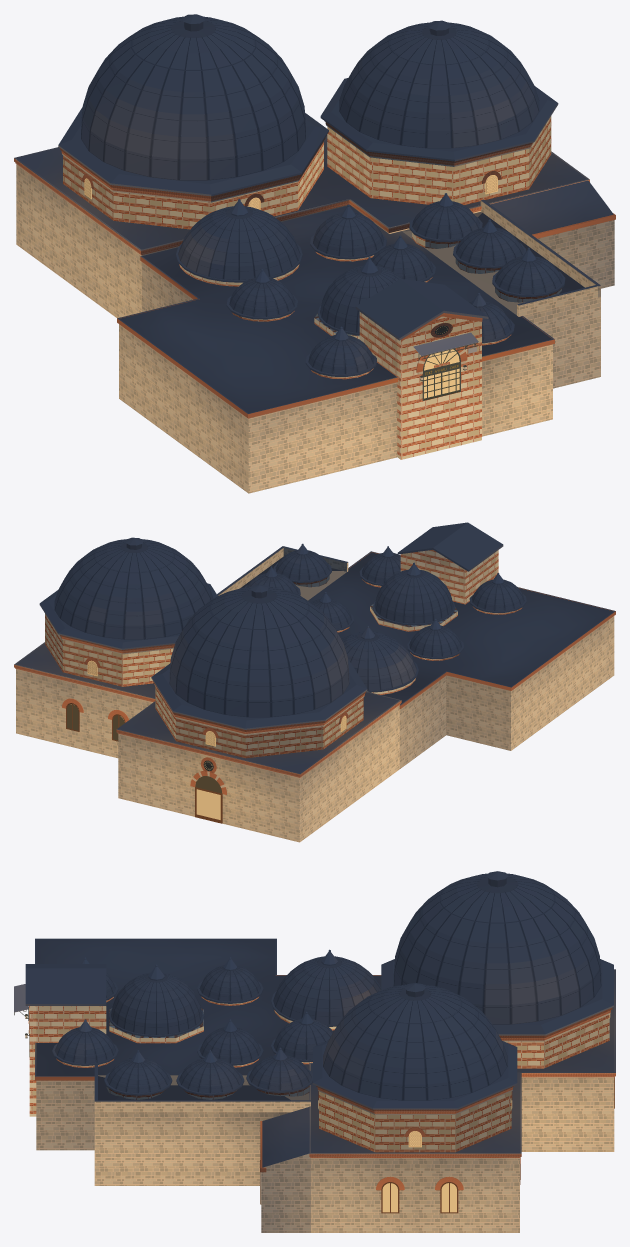
The model's file is orhan-bey-hamami_v05_night.glb.
3 views of the same model, one above another, from view 1: azimuth 30°, elevation 25°; view 2: azimuth 150°, elevation 25°; view 3: azimuth 270°, elevation 25° (orthographic). The views are drawn at different scales.
Parts seen in each view (by area): view 1: Hamam_Sicaklik, Kubbe_Sogukluk_Erkek, Kubbe_Sogukluk_Kadin, Kubbe_Halvetler, Hamam_Giris, Hamam_Sogukluk_Erkek, Hamam_Detay, Kubbe_Iliklik, Hamam_Giris_Kadin, Kubbe_Sicaklik, Hamam_Sogukluk_Kadin; view 2: Kubbe_Sogukluk_Erkek, Hamam_Sicaklik, Hamam_Sogukluk_Erkek, Kubbe_Sogukluk_Kadin, Kubbe_Halvetler, Hamam_Detay, Hamam_Sogukluk_Kadin, Hamam_Giris, Kubbe_Sicaklik, Kubbe_Iliklik; view 3: Hamam_Sicaklik, Kubbe_Sogukluk_Erkek, Kubbe_Sogukluk_Kadin, Kubbe_Halvetler, Hamam_Sogukluk_Kadin, Hamam_Sogukluk_Erkek, Hamam_Detay, Hamam_Giris, Hamam_Giris_Kadin, Kubbe_Sicaklik, Kubbe_Iliklik.
Boxes of the visible parts, x1=… form: Hamam_Sicaklik: x1=119, y1=205, x2=600, y2=493; Kubbe_Sogukluk_Erkek: x1=58, y1=16, x2=328, y2=229; Kubbe_Sogukluk_Kadin: x1=320, y1=22, x2=558, y2=204; Kubbe_Halvetler: x1=226, y1=199, x2=600, y2=379; Hamam_Giris: x1=355, y1=278, x2=488, y2=459; Hamam_Sogukluk_Erkek: x1=16, y1=147, x2=365, y2=318; Hamam_Detay: x1=14, y1=14, x2=589, y2=418; Kubbe_Iliklik: x1=176, y1=206, x2=302, y2=286; Hamam_Giris_Kadin: x1=490, y1=180, x2=615, y2=288; Kubbe_Sicaklik: x1=314, y1=266, x2=402, y2=339; Hamam_Sogukluk_Kadin: x1=324, y1=134, x2=586, y2=233; Kubbe_Sogukluk_Erkek: x1=151, y1=586, x2=367, y2=758; Hamam_Sicaklik: x1=308, y1=552, x2=614, y2=768; Hamam_Sogukluk_Erkek: x1=118, y1=692, x2=399, y2=842; Kubbe_Sogukluk_Kadin: x1=39, y1=539, x2=217, y2=686; Kubbe_Halvetler: x1=217, y1=546, x2=526, y2=660; Hamam_Detay: x1=14, y1=537, x2=615, y2=823; Hamam_Sogukluk_Kadin: x1=16, y1=643, x2=155, y2=758; Hamam_Giris: x1=397, y1=522, x2=503, y2=604; Kubbe_Sicaklik: x1=370, y1=569, x2=457, y2=631; Kubbe_Iliklik: x1=341, y1=631, x2=418, y2=694; Hamam_Sicaklik: x1=36, y1=939, x2=381, y2=1185; Kubbe_Sogukluk_Erkek: x1=381, y1=873, x2=613, y2=1068; Kubbe_Sogukluk_Kadin: x1=313, y1=984, x2=517, y2=1152; Kubbe_Halvetler: x1=52, y1=965, x2=333, y2=1112; Hamam_Sogukluk_Kadin: x1=311, y1=1063, x2=519, y2=1232; Hamam_Sogukluk_Erkek: x1=517, y1=970, x2=614, y2=1151; Hamam_Detay: x1=35, y1=871, x2=615, y2=1213; Hamam_Giris: x1=14, y1=964, x2=106, y2=1116; Hamam_Giris_Kadin: x1=260, y1=1107, x2=310, y2=1232; Kubbe_Sicaklik: x1=109, y1=972, x2=204, y2=1043; Kubbe_Iliklik: x1=271, y1=956, x2=381, y2=1030.
Size of the model in its own units: 31.62 by 15.2 by 36.23.
15 materials, 5 textured.
